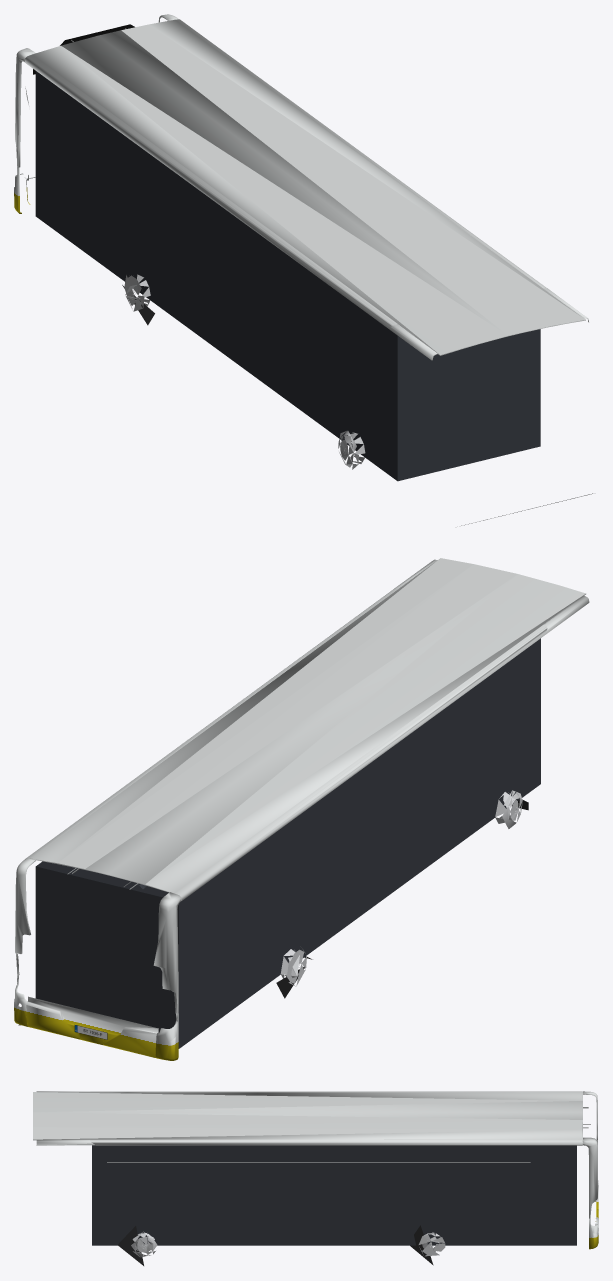
Rendered from autobus-37_lod2.glb.
3 renders of one model, top to bottom at view 1: azimuth 30°, elevation 25°; view 2: azimuth 150°, elevation 25°; view 3: azimuth 270°, elevation 25°, orthographic. The views are drawn at different scales.
Parts seen in each view (by area): view 1: body, wheel_RR_rim_hub, wheel_FR_rim_hub; view 2: body, wheel_RR_rim_hub, wheel_FR_rim_hub; view 3: body, wheel_FL_rim_hub, wheel_RL_rim_hub.
Boxes of the visible parts, x1,y1,x2,y2 form: body: (14, 14, 592, 525); wheel_RR_rim_hub: (122, 274, 154, 325); wheel_FR_rim_hub: (338, 430, 365, 469); body: (14, 558, 589, 1060); wheel_RR_rim_hub: (276, 949, 306, 998); wheel_FR_rim_hub: (495, 790, 522, 828); body: (33, 1091, 598, 1249); wheel_FL_rim_hub: (118, 1226, 157, 1265); wheel_RL_rim_hub: (410, 1225, 445, 1265).
Size of the model in its own units: 2.71 by 2.89 by 11.94.
Materials: 7 (3 with a texture image).
